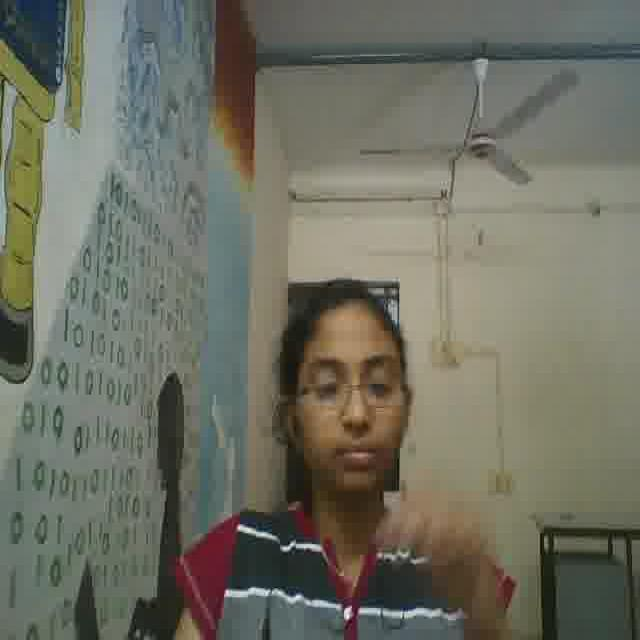Confusion: (295, 310, 401, 494)
